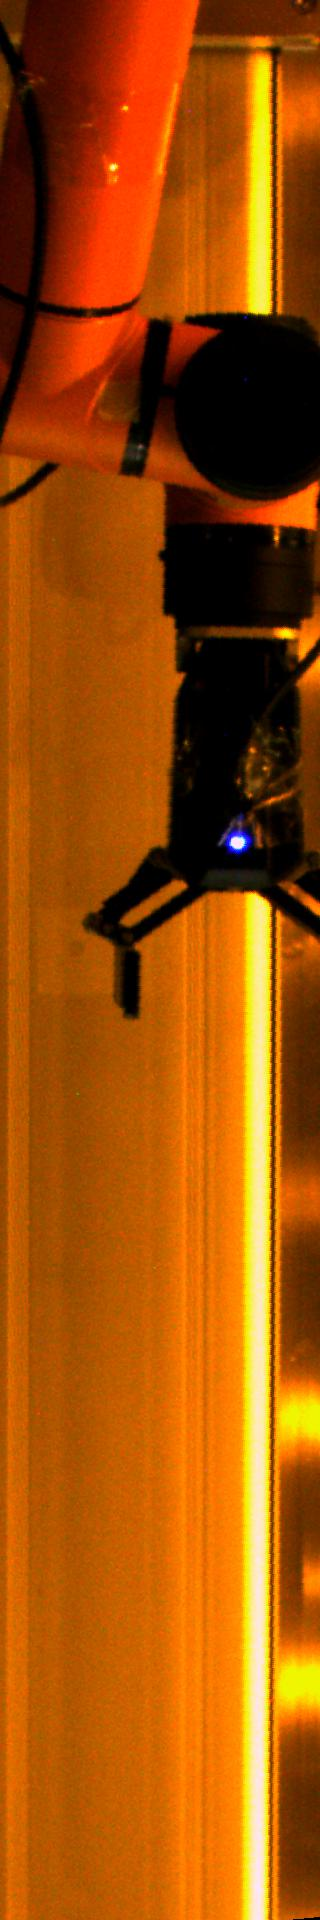keyPoint_1: (223, 827, 253, 856)
